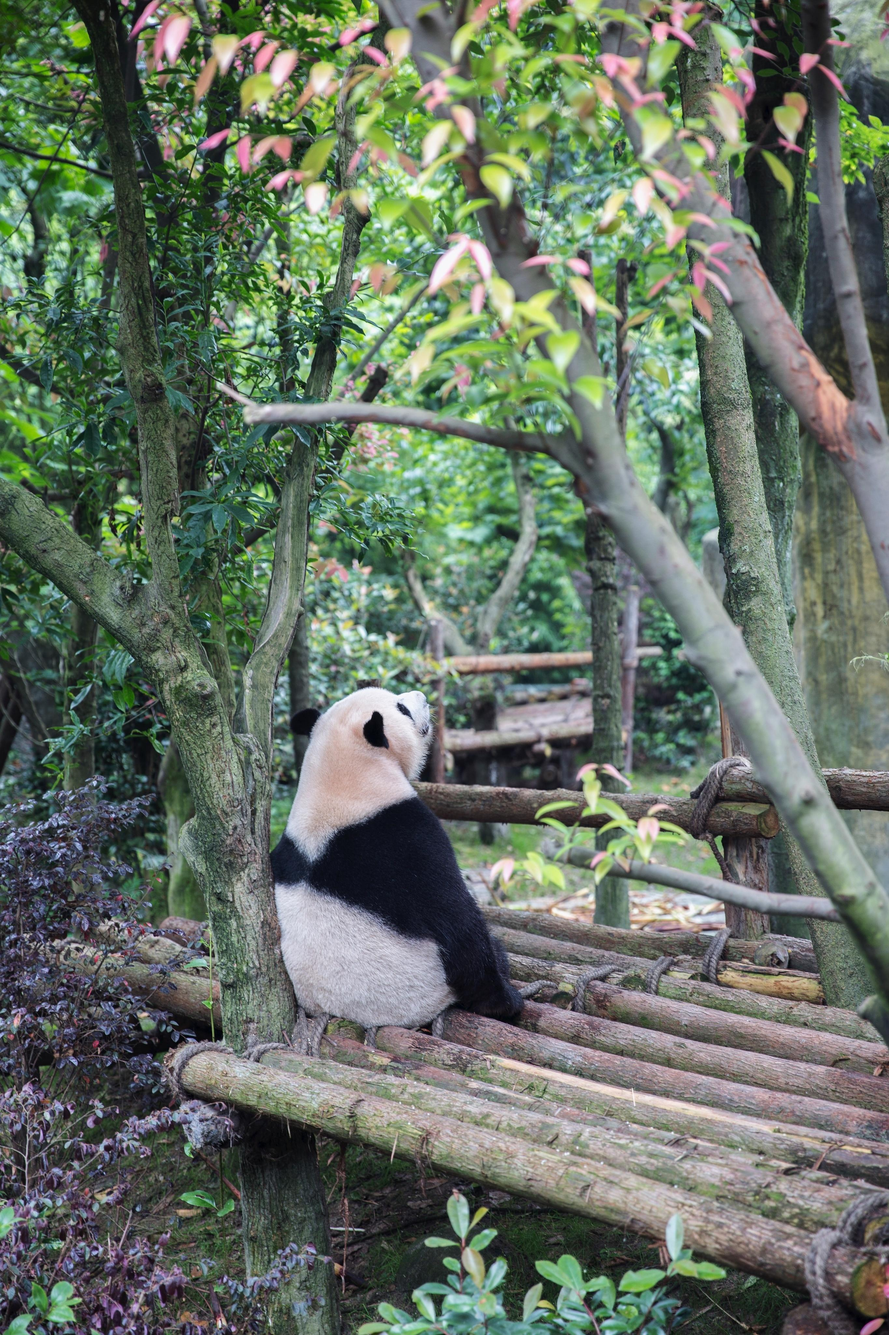panda: (271, 662, 531, 1056)
